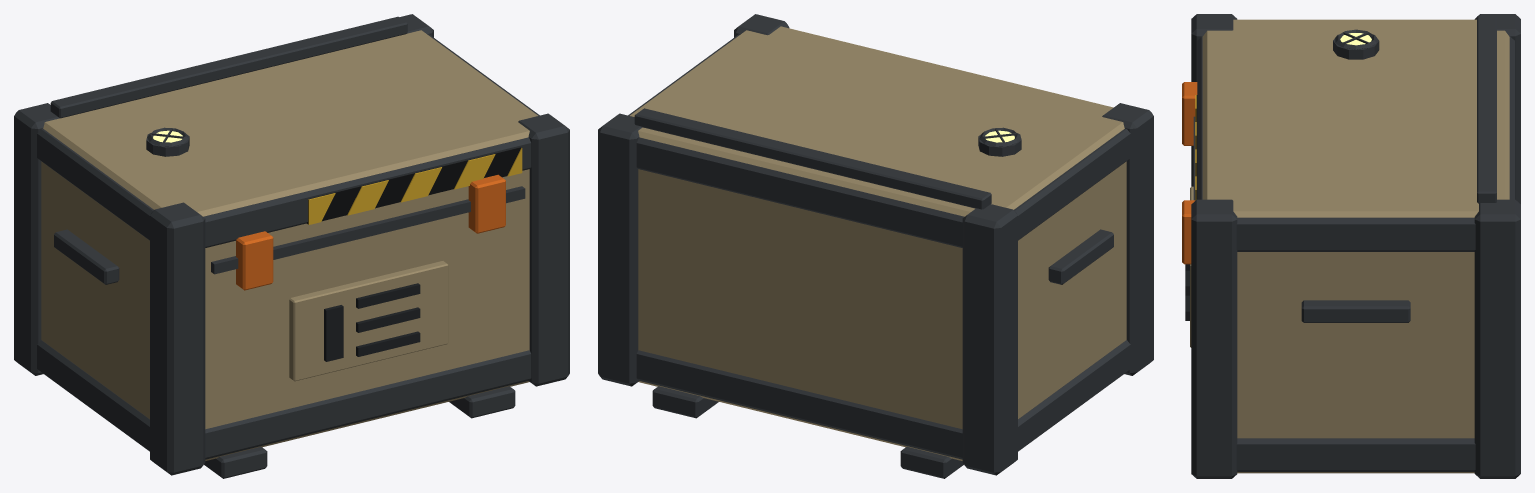
File: env_supply_crate.fbx
3 renders of one model, left to right at view 1: azimuth 30°, elevation 25°; view 2: azimuth 150°, elevation 25°; view 3: azimuth 270°, elevation 25°, orthographic. The views are drawn at different scales.
Parts seen in each view (by area): view 1: Body; view 2: Body; view 3: Body.
Part boxes in pixels (box(x1,y1,x2,y2)): Body: box(14, 14, 569, 478); Body: box(598, 14, 1153, 478); Body: box(1182, 14, 1520, 478).
Size of the model in its own units: 4.62 by 2.93 by 3.05.
2 materials, 1 textured.
